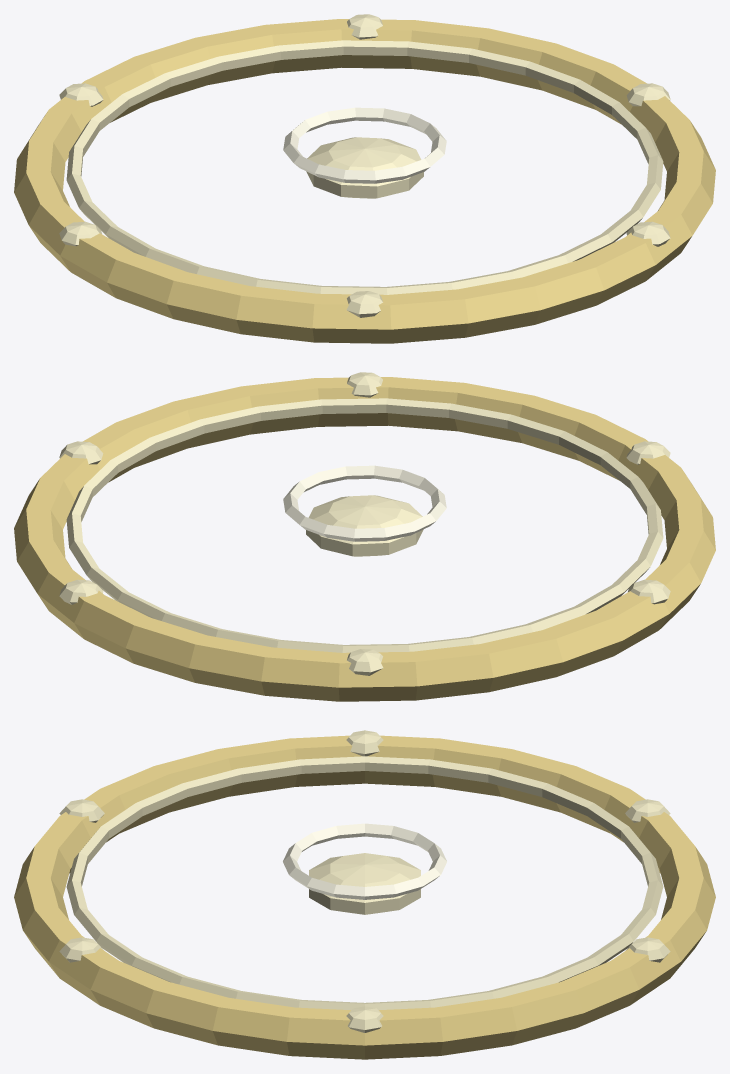
The model's file is anillo_dorado.glb.
3 renders of one model, top to bottom at view 1: azimuth 30°, elevation 25°; view 2: azimuth 150°, elevation 25°; view 3: azimuth 270°, elevation 25°, orthographic.
Visible parts, largest first — view 1: anillo_dorado; view 2: anillo_dorado; view 3: anillo_dorado.
Boxes of the visible parts, x1,y1,x2,y2 form: anillo_dorado: (14,14,715,343); anillo_dorado: (14,372,715,701); anillo_dorado: (14,730,715,1059).
Bounding box in the file's own units: 2.15 × 0.207 × 2.15.
